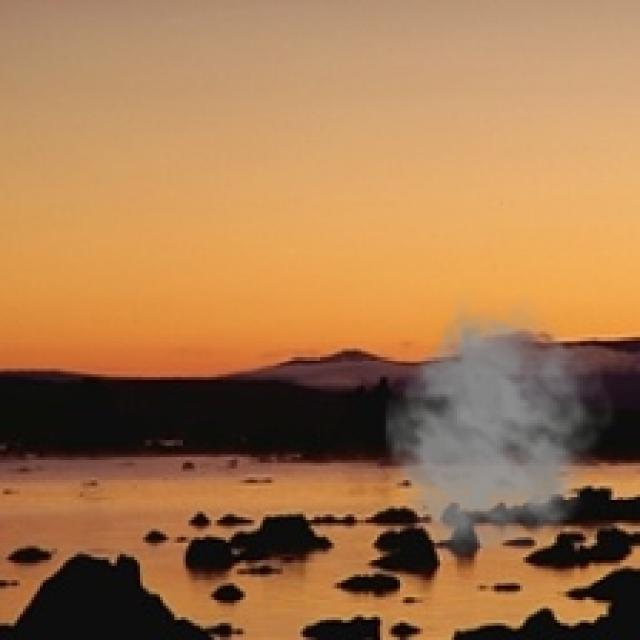smoke: (383, 288, 617, 563)
